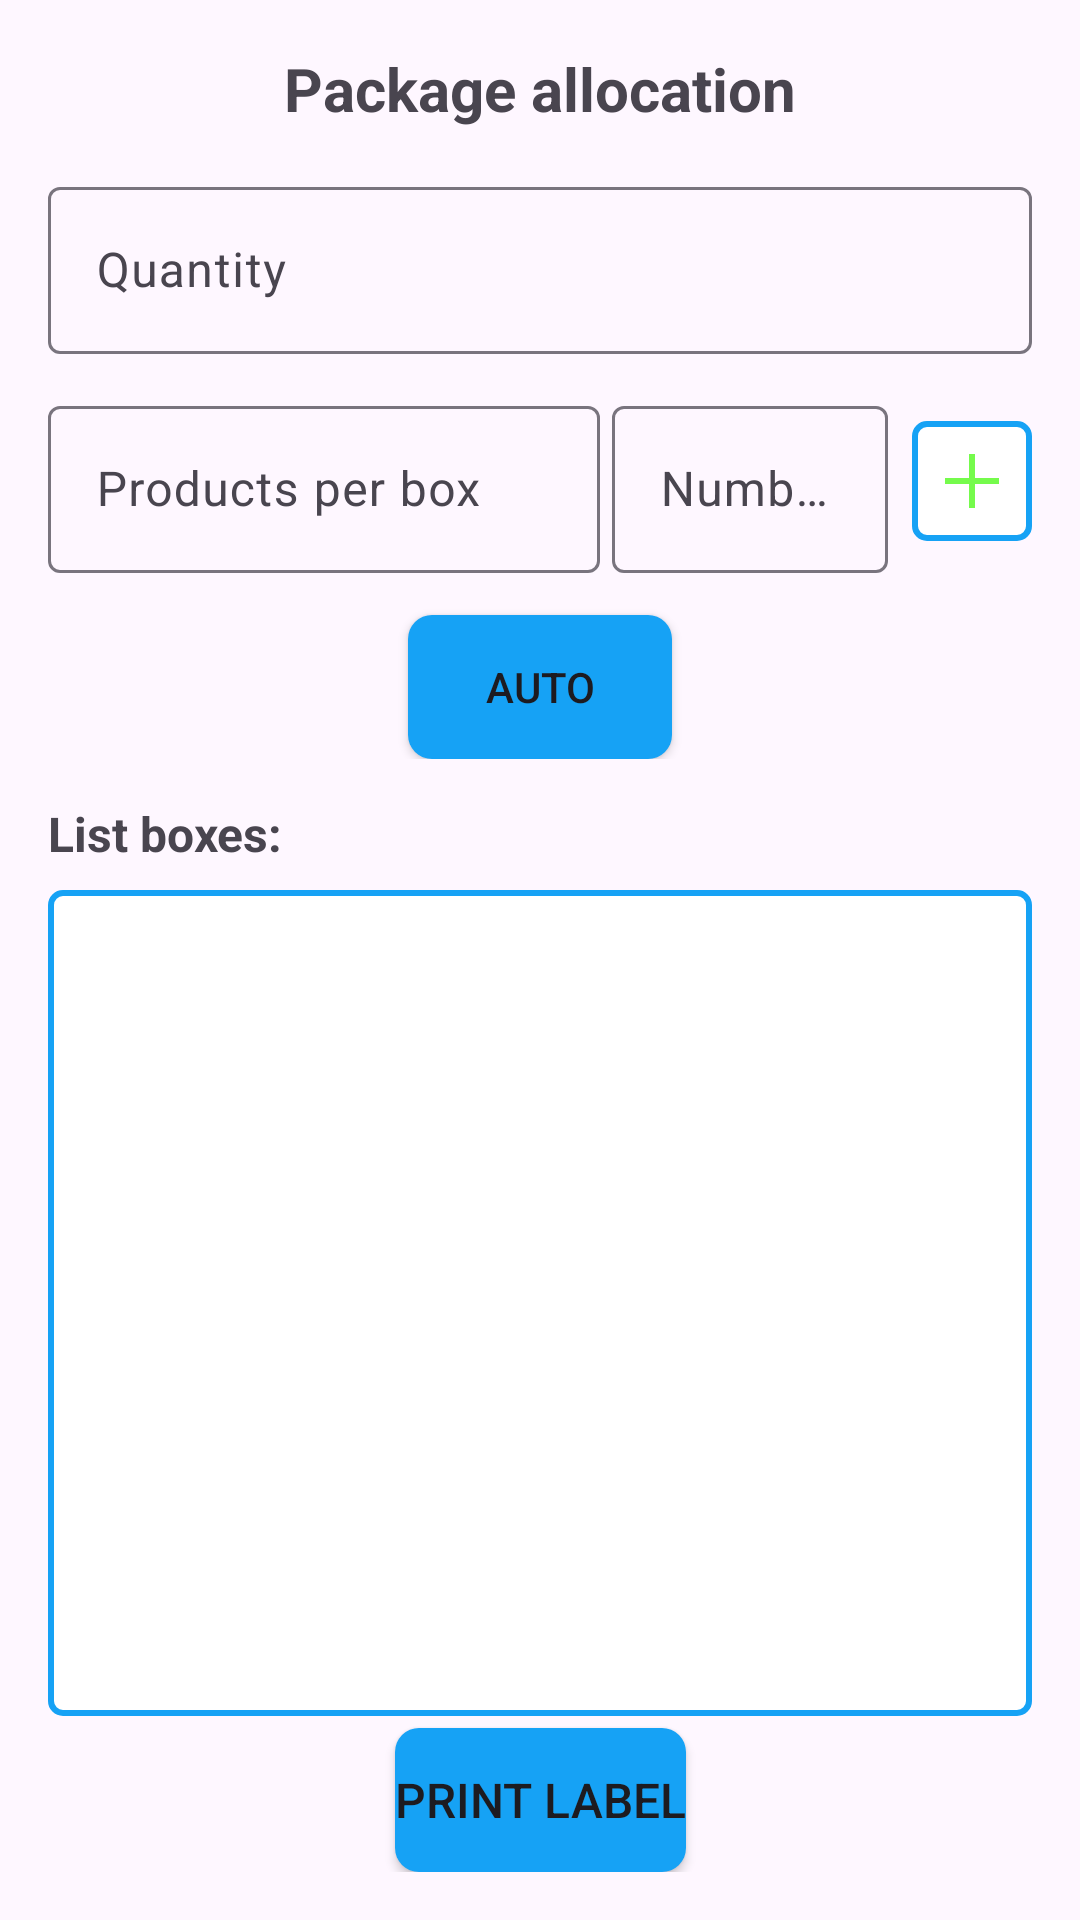

Icon bounding boxes for this 1080x1920 phone screenshot, format (x1, y1, x2, y2):
add: (912, 421, 1032, 541)
